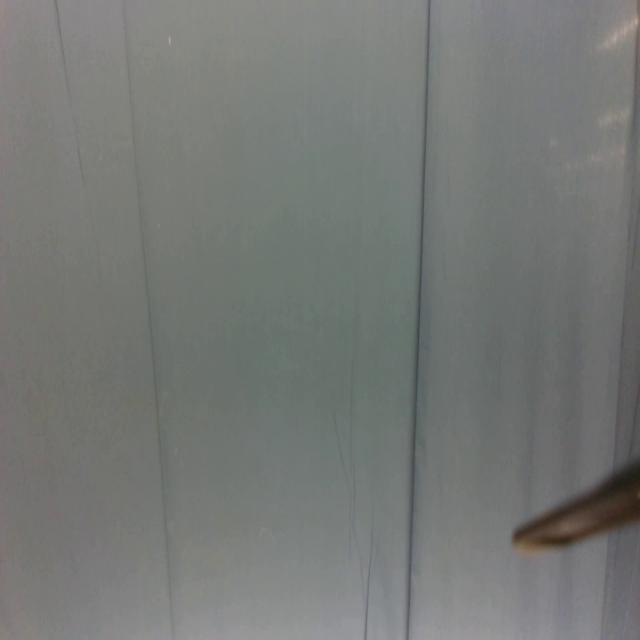crease: (122, 0, 174, 640), (405, 0, 432, 639), (53, 3, 86, 184), (610, 227, 632, 468), (331, 356, 359, 502), (364, 512, 377, 640)
hole: (167, 32, 173, 53)
